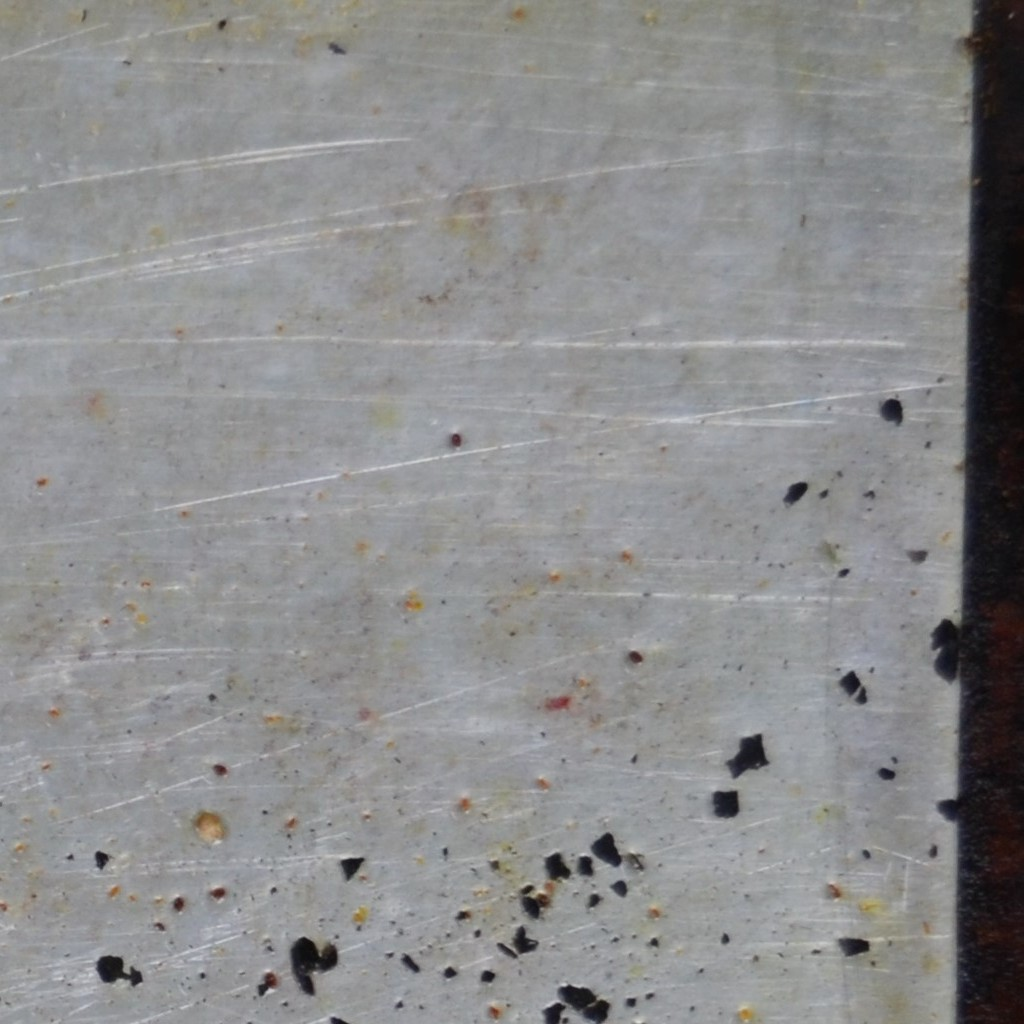varroa: (626, 647, 644, 666), (262, 970, 279, 990), (209, 761, 229, 777), (208, 886, 228, 902), (449, 430, 462, 453), (171, 896, 186, 913)
